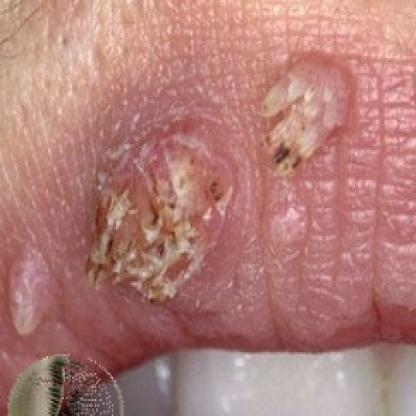Warts: (59, 92, 246, 315), (253, 42, 352, 184)
